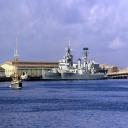Fragata: (61, 49, 110, 82)
